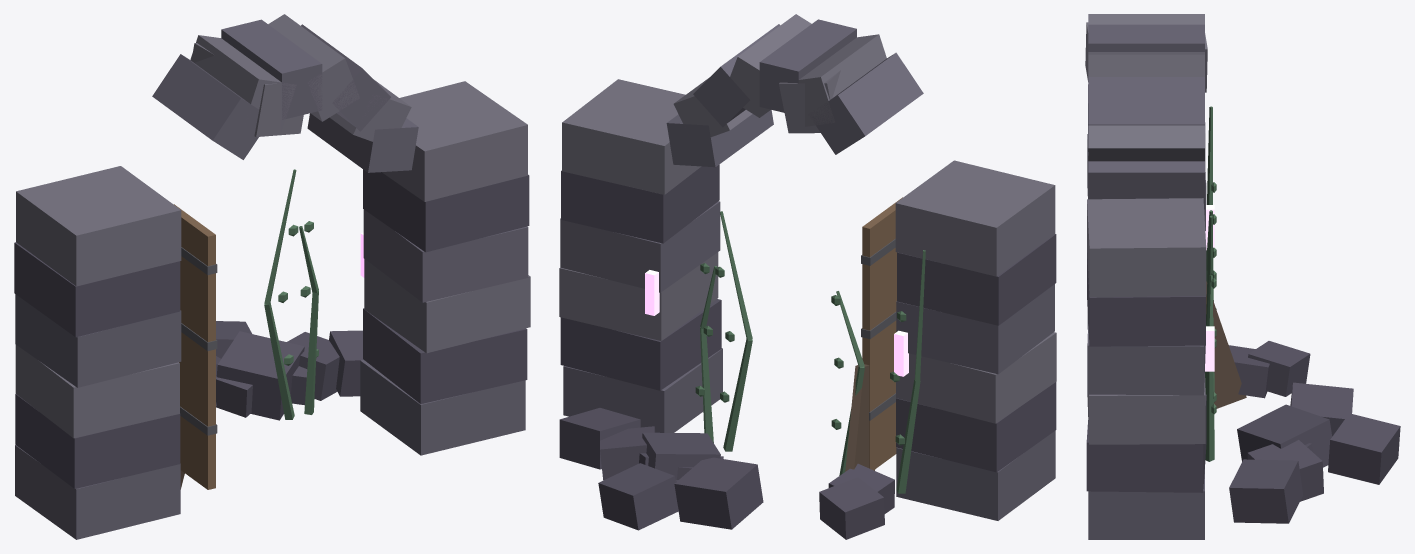
Rendered from castle_gate.glb.
The picture shows the model from 3 angles, left to right: view 1: azimuth 30°, elevation 25°; view 2: azimuth 150°, elevation 25°; view 3: azimuth 270°, elevation 25°; orthographic projection. The views are drawn at different scales.
Visible parts, largest first — view 1: castle_gate; view 2: castle_gate; view 3: castle_gate.
Part boxes in pixels (left/top/right/bottom): castle_gate: left=14, top=14, right=530, bottom=539; castle_gate: left=559, top=14, right=1056, bottom=539; castle_gate: left=1085, top=14, right=1400, bottom=539.
Bounding box in the file's own units: 5.66 × 5.21 × 3.51.
